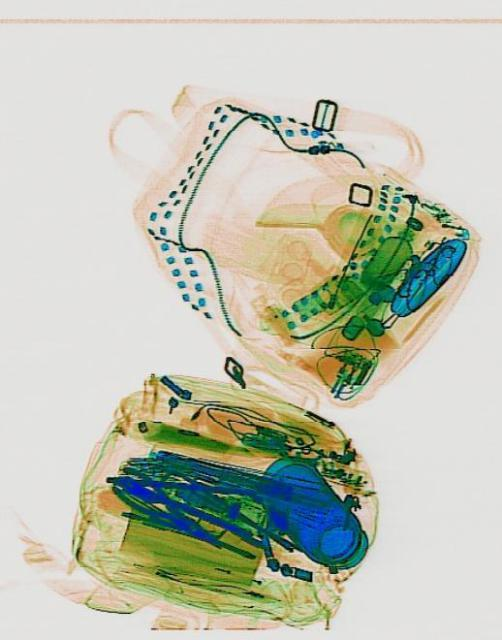Pliers: (107, 458, 218, 556)
